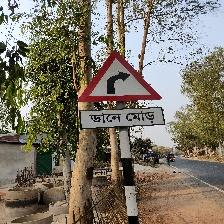Right-turn: (77, 51, 165, 132)
